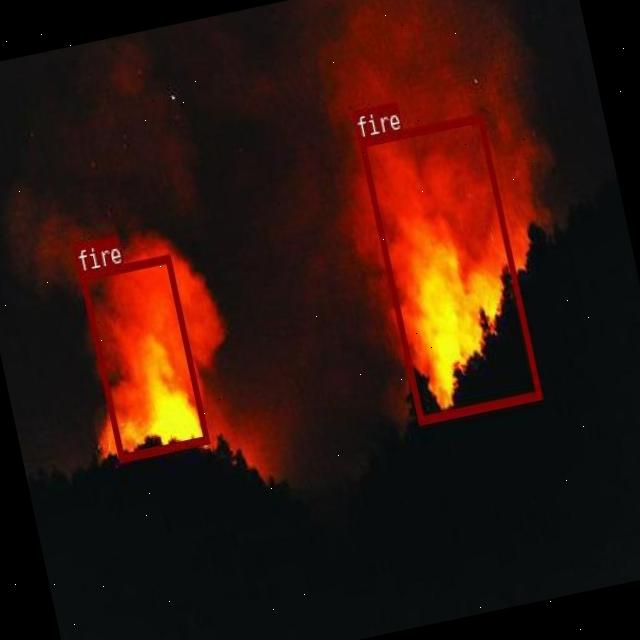fire: (357, 111, 541, 424), (78, 253, 208, 461)
